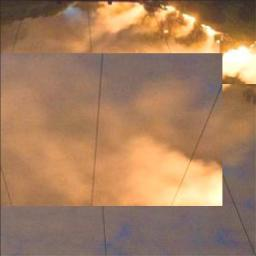Heavy smoke: (0, 55, 239, 229)
Medium fire: (0, 0, 237, 55)
